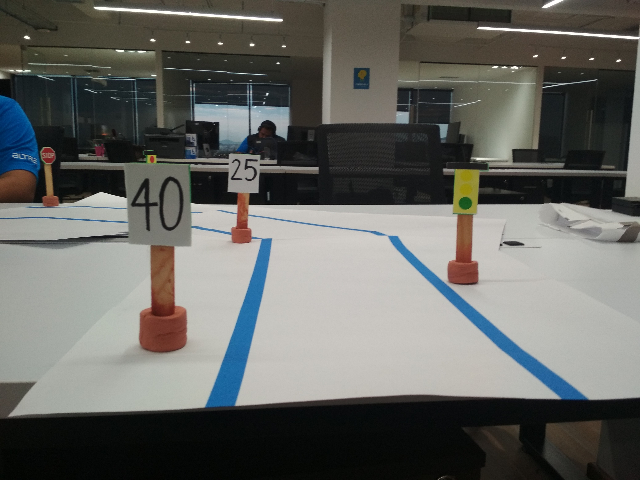Green Traffic Light: (445, 160, 490, 215)
Speed Limit 25: (224, 152, 260, 194)
Speed Limit 40: (118, 160, 194, 247)
Stop Sign: (39, 145, 57, 166)
